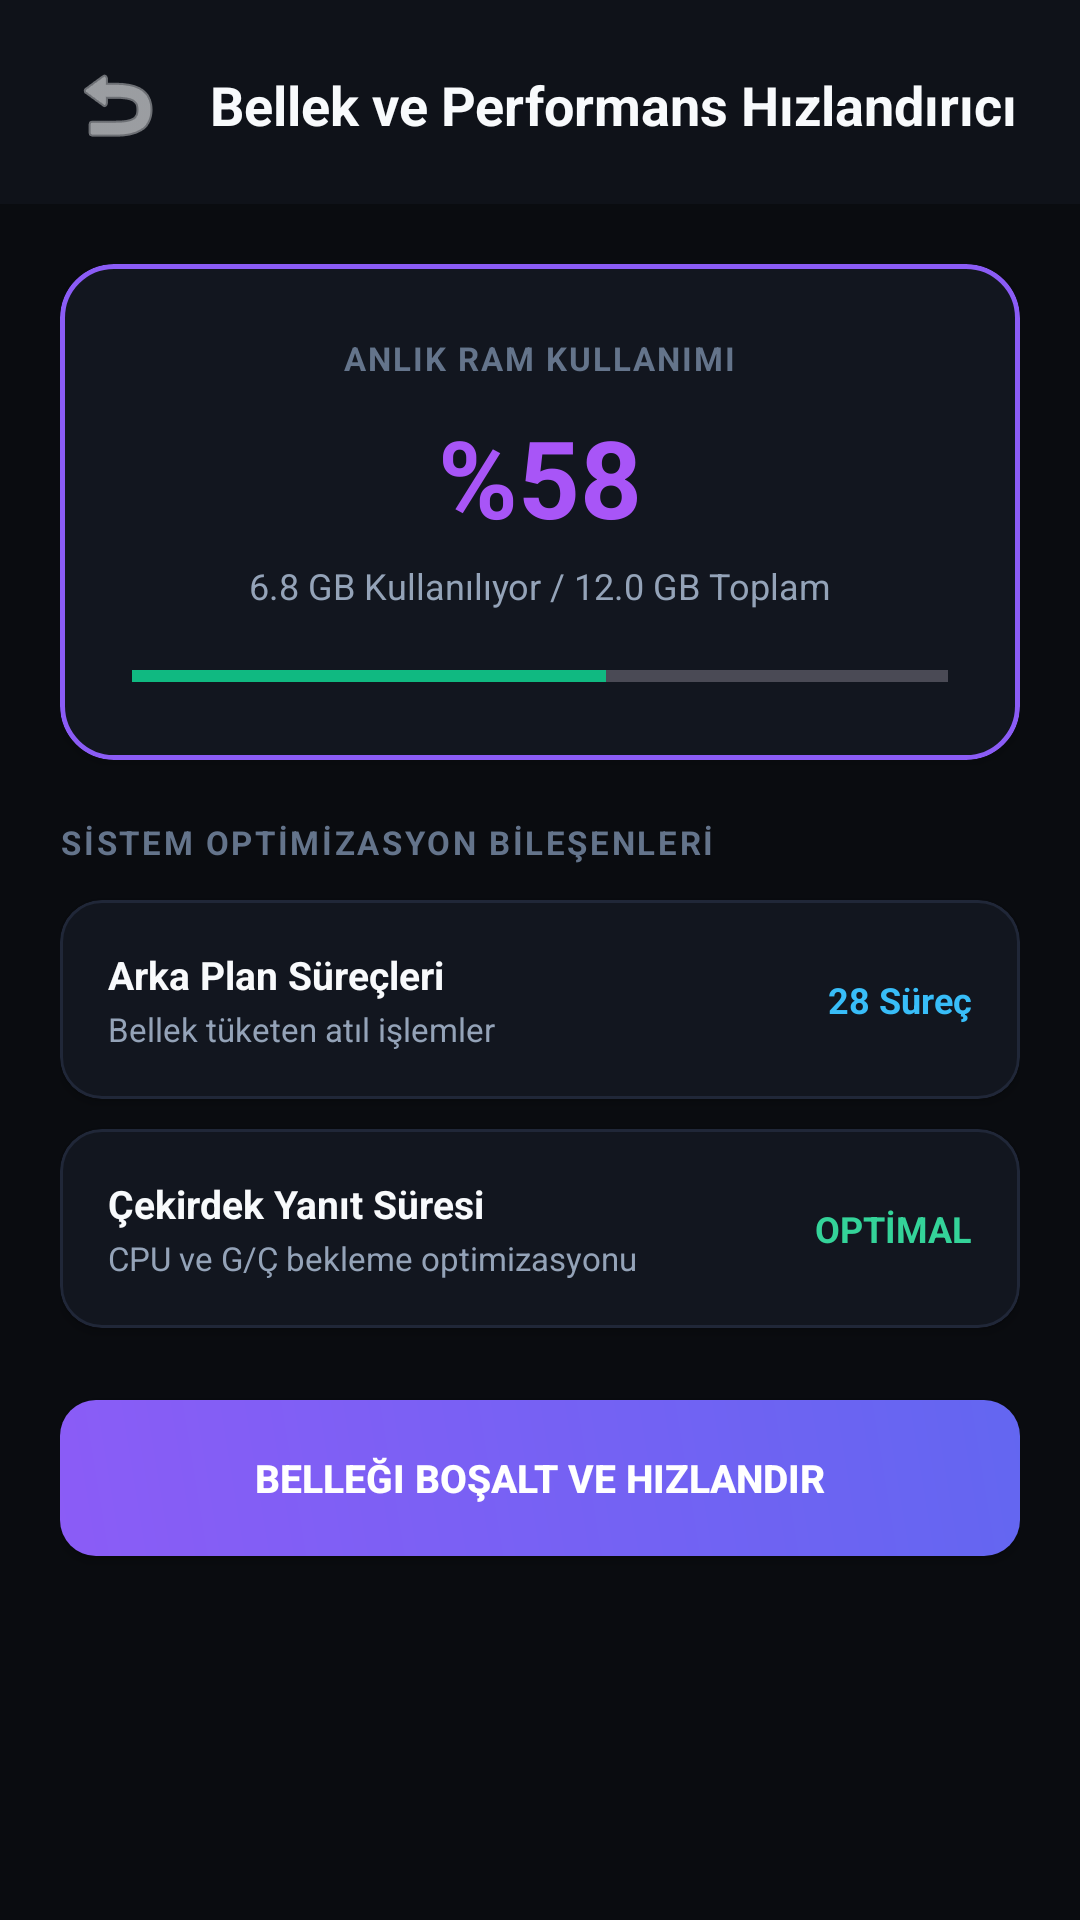

Point at icon controls on the screen. Image size 1080×1920, points as (x=x, y=y).
Back: (x=118, y=105)
